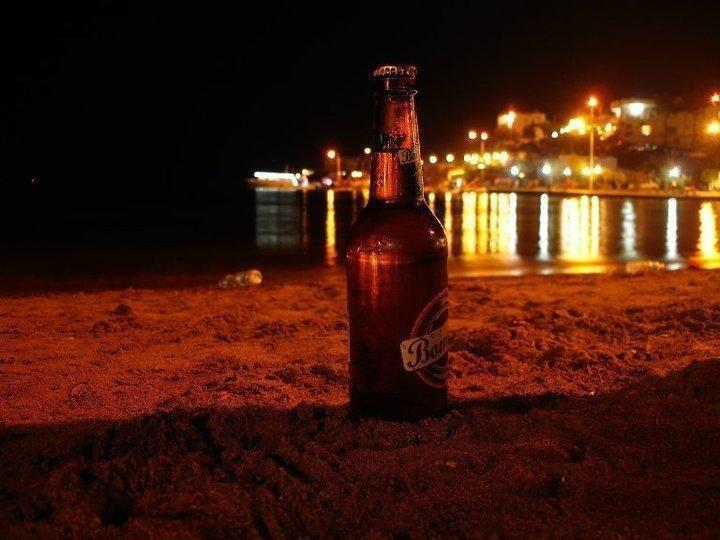bottle-glass: (343, 62, 449, 422)
